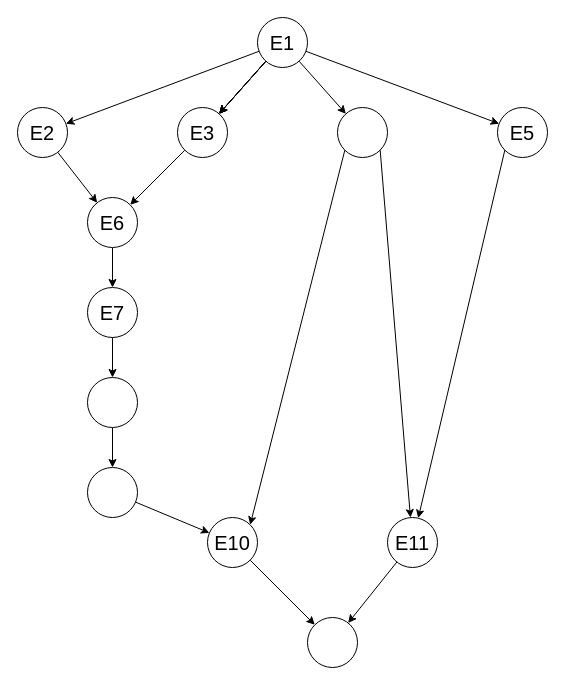
Some shapes in this 565 by 685 pixel diagram are drawn without their labels. Here are the shapes that lost their labels. From the top down, the box of each, then its label:
(336, 106, 388, 158): E4
(86, 376, 138, 428): E8
(86, 466, 138, 518): E9
(306, 616, 358, 668): E12
